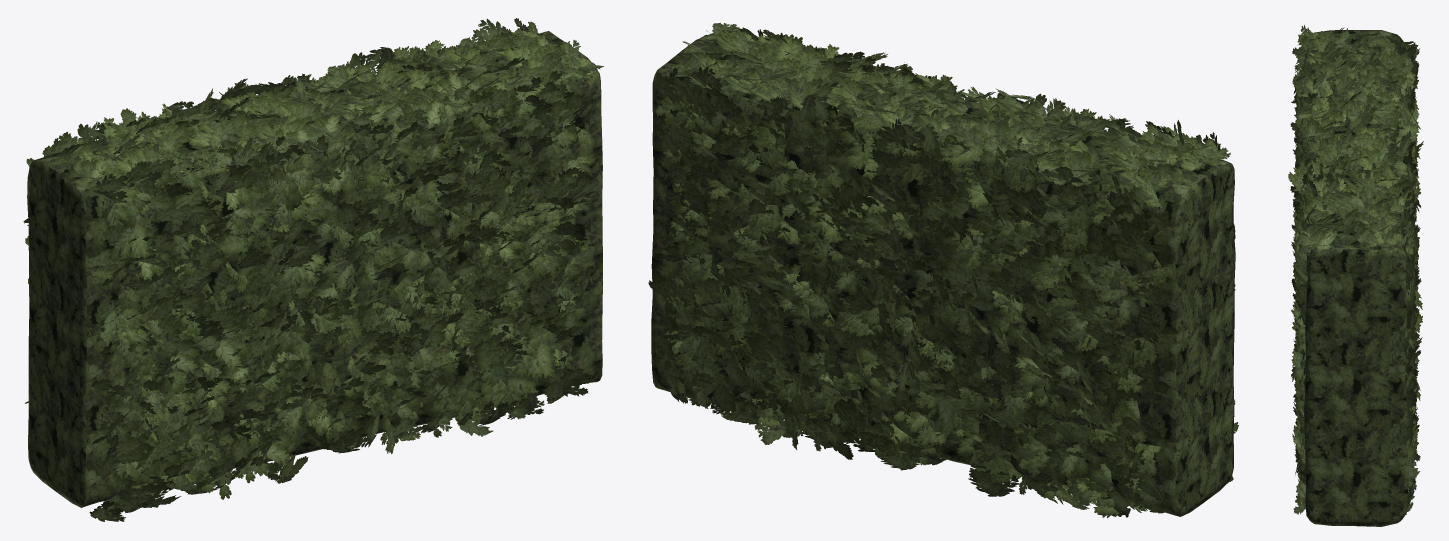
File: seto_boj_200.glb
The picture shows the model from 3 angles, left to right: view 1: azimuth 30°, elevation 25°; view 2: azimuth 150°, elevation 25°; view 3: azimuth 270°, elevation 25°; orthographic projection. The views are drawn at different scales.
Parts seen in each view (by area): view 1: seto_boj_200; view 2: seto_boj_200; view 3: seto_boj_200.
Boxes of the visible parts, left/top/right/bottom form: seto_boj_200: left=23, top=18, right=603, bottom=521; seto_boj_200: left=648, top=22, right=1238, bottom=517; seto_boj_200: left=1288, top=25, right=1423, bottom=526.
Size of the model in its own units: 2 by 1.4 by 0.5999.
Materials: 2 (2 with a texture image).
